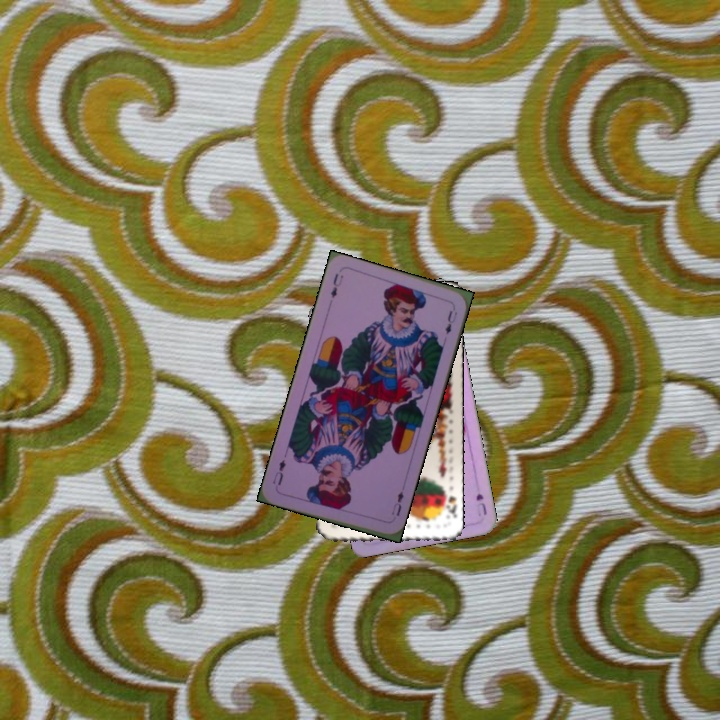EU: (326, 269, 346, 301), (387, 487, 406, 519)
SK: (439, 485, 458, 522)
SU: (472, 489, 489, 519)
